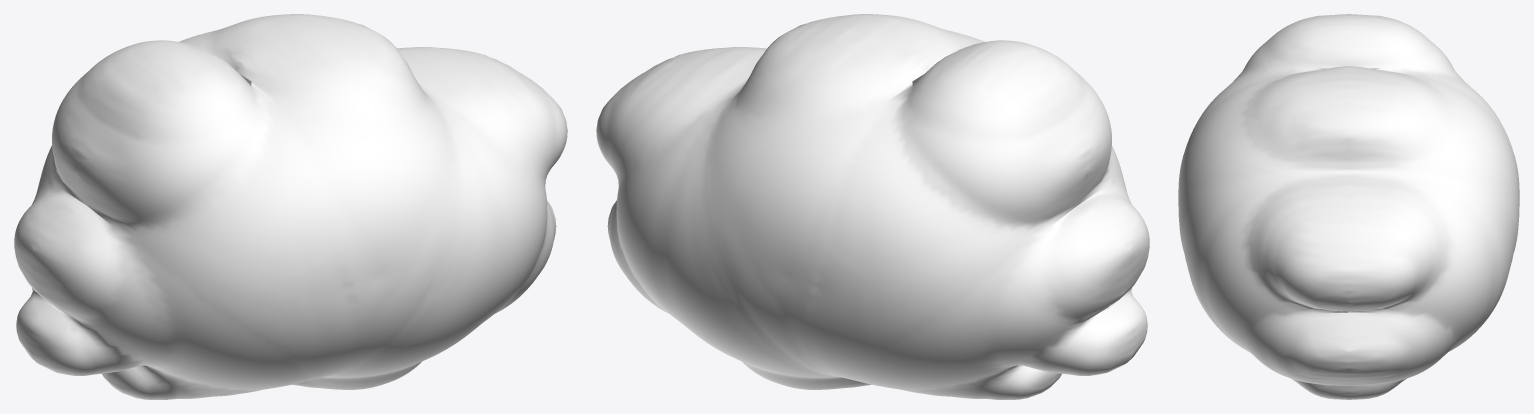
Rendered from sheepbody.fbx.
3 renders of one model, left to right at view 1: azimuth 30°, elevation 25°; view 2: azimuth 150°, elevation 25°; view 3: azimuth 270°, elevation 25°, orthographic. The views are drawn at different scales.
Visible parts, largest first — view 1: root; view 2: root; view 3: root.
Part boxes in pixels (<box>): root: <box>14,14,567,399</box>; root: <box>596,14,1149,399</box>; root: <box>1178,14,1519,399</box>.
Bounding box in the file's own units: 0.2987 × 0.1954 × 0.2068.
1 material, 1 textured.
